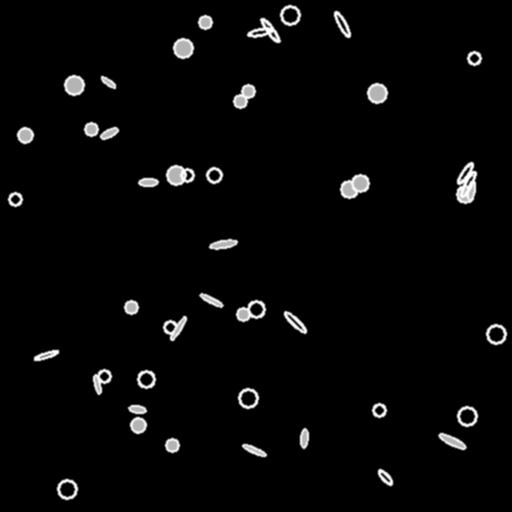pseudomonas: (282, 310, 308, 334), (259, 17, 281, 43), (332, 10, 352, 38), (438, 432, 466, 450), (459, 170, 477, 198), (455, 161, 475, 185), (169, 316, 187, 340), (199, 292, 223, 308), (242, 443, 266, 457), (209, 238, 237, 250), (376, 468, 394, 486), (247, 26, 273, 38), (33, 349, 59, 361), (99, 126, 119, 140), (100, 75, 116, 89), (92, 374, 102, 394), (466, 181, 476, 199), (129, 404, 145, 414), (300, 429, 308, 447), (139, 179, 157, 185)
synechocystis: (458, 407, 476, 425), (167, 166, 185, 184), (174, 39, 192, 57), (487, 325, 505, 343), (368, 84, 386, 102), (239, 389, 257, 407), (281, 6, 299, 24), (58, 480, 76, 498), (65, 76, 83, 94), (138, 371, 154, 387), (341, 181, 357, 197), (352, 175, 368, 191), (248, 301, 264, 317), (457, 186, 473, 202), (131, 418, 145, 432), (18, 128, 32, 142), (207, 168, 221, 182), (9, 193, 21, 205), (164, 321, 176, 333), (125, 301, 137, 313), (237, 308, 249, 320), (98, 370, 110, 382), (468, 52, 480, 64), (234, 95, 246, 107), (85, 123, 97, 135), (373, 404, 385, 416), (199, 16, 211, 28), (181, 169, 193, 181), (166, 439, 178, 451), (242, 85, 254, 97)
